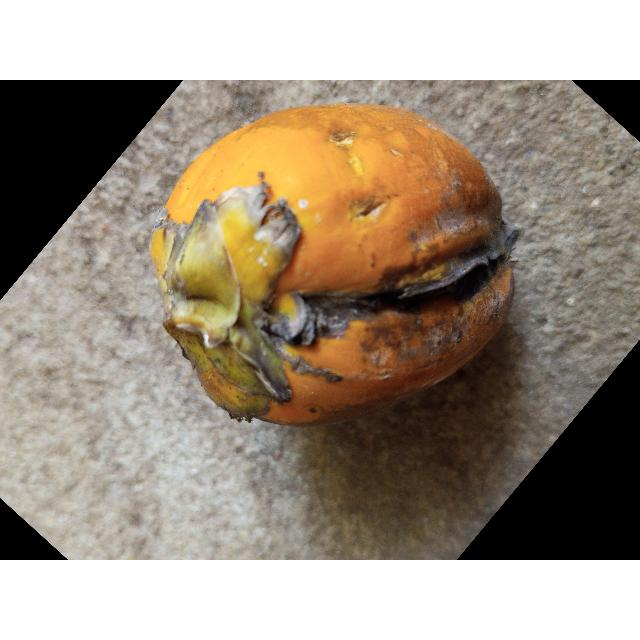damaged: (148, 104, 521, 428)
